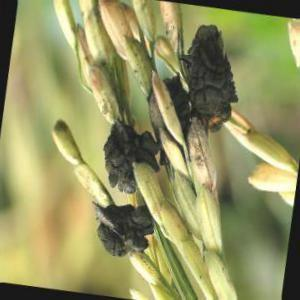Leaf_Scald: (186, 32, 234, 143), (98, 209, 153, 259), (109, 123, 144, 199)
